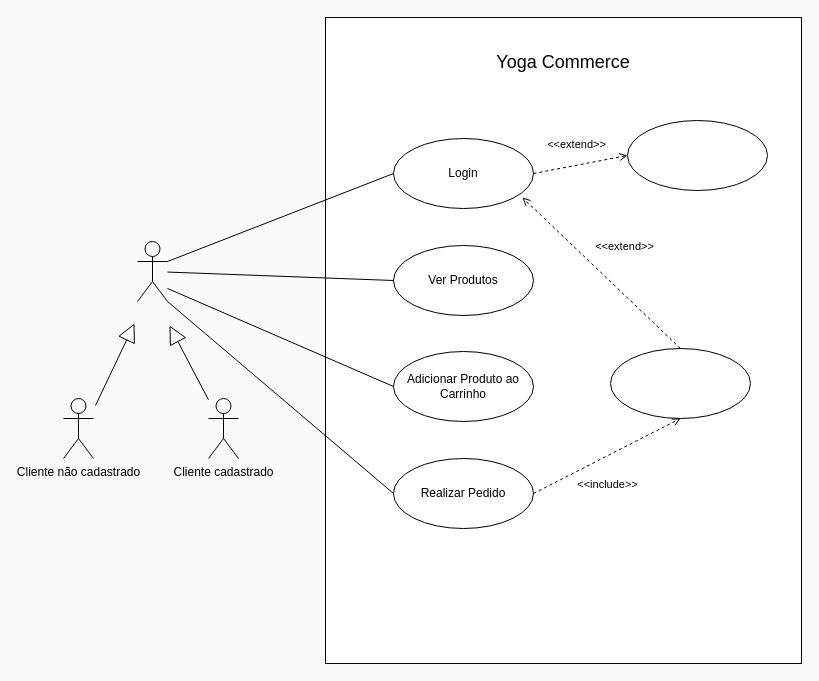
Image size: 819x681. Some labels were removed from this diagram. Here are the shapes that lost their labels. From the top down, the centre of each, then its label:
the point at 697,155: Criar Cadastro
the point at 152,271: Cliente
the point at 680,383: Validar Cliente
